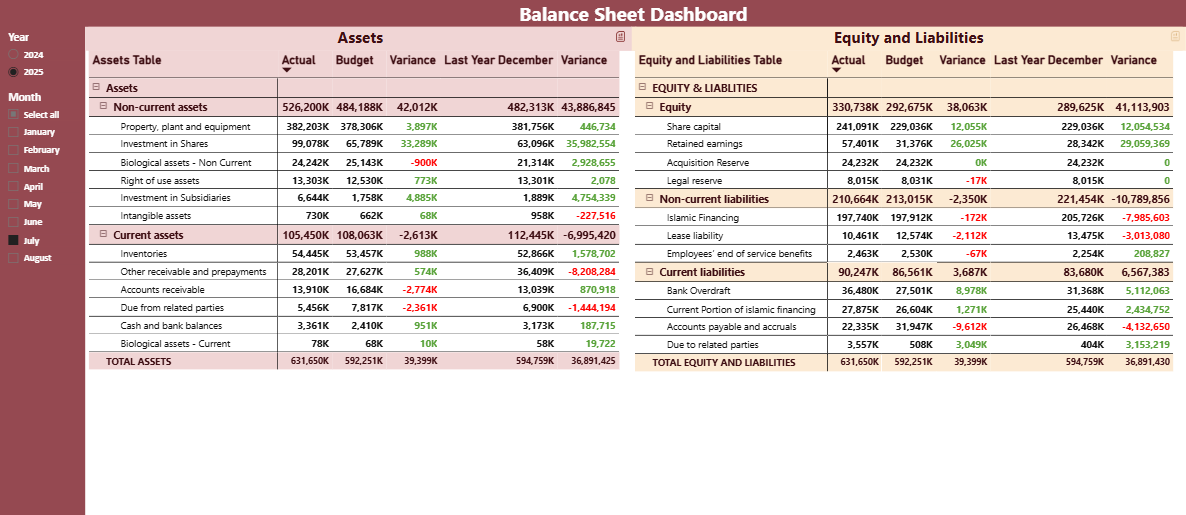

Layout of this report page (visuals, bound fields, positions):
{"tool":"powerbi","page":{"name":"Balance Sheet","canvas":[1650,720],"ordinal":0},"visuals":[{"type":"shape","box":[0,0,119.8,720],"z":0},{"type":"shape","box":[112.3,0,1537.7,38.9],"z":1000},{"type":"slicer","fields":{"Values":["Date.Month Name"]},"box":[0,121.4,119.9,358.2],"z":2000},{"type":"slicer","fields":{"Values":["Date.Year"]},"box":[0,39,119.9,82.4],"z":3000},{"type":"pivotTable","title":"Assets","fields":{"Values":["_Measures.Actual","_Measures.Budget","_Measures.Variance","_Measures.LY_DEACTUAL","_Measures.Variance_LY_Dec"],"Rows":["BS_CON.ASSETS Hierarchy.BS_TEXT_HLV2","BS_CON.ASSETS Hierarchy.BS_TEXT_HLV3","BS_CON.ASSETS Hierarchy.BS_TEXT_HLV4"]},"box":[119.9,39,764.4,680.5],"z":4000},{"type":"pivotTable","title":"Equity and Liabilities","fields":{"Values":["_Measures.Actual","_Measures.Budget","_Measures.Variance","_Measures.LY_DEACTUAL","_Measures.Variance_LY_Dec"],"Rows":["BS_CON.EQUITY & LIABILITIES Hierarchy.Equity and Liabilities Table","BS_CON.EQUITY & LIABILITIES Hierarchy.BS_TEXT_HLV3","BS_CON.EQUITY & LIABILITIES Hierarchy.BS_TEXT_HLV4"]},"box":[879.9,39,770.4,680.5],"z":5000},{"type":"image","box":[847.4,29.1,32.4,44.7],"z":6000},{"type":"image","box":[1618.7,29.1,31.3,44.7],"z":7000}]}

Visuals, with their boxes in screenshot pixels (x1, y1, x2, y2), scaled from the page's 1650x720 canvas onto the 1186x515 screenshot:
shape: [0, 0, 86, 514]
shape: [81, 0, 1185, 28]
slicer - Date.Month Name: [0, 87, 86, 343]
slicer - Date.Year: [0, 28, 86, 87]
"Assets" pivotTable: [86, 28, 636, 514]
"Equity and Liabilities" pivotTable: [632, 28, 1185, 514]
image: [609, 21, 632, 53]
image: [1164, 21, 1185, 53]
